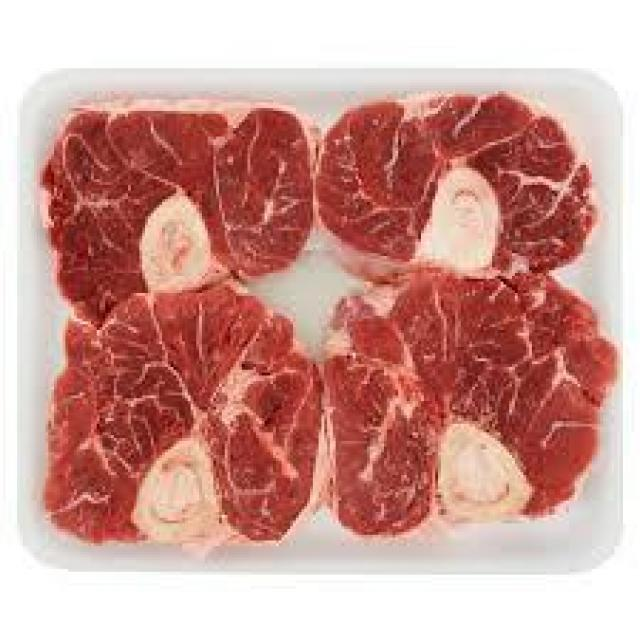Beef: (33, 70, 322, 310)
